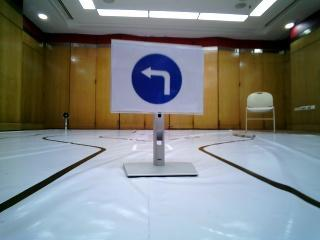left: (121, 46, 198, 106)
